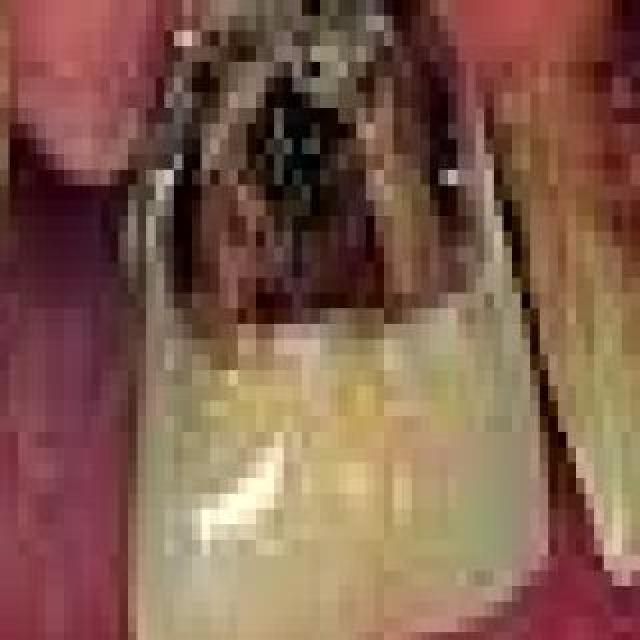cavities: (136, 0, 492, 400), (558, 0, 640, 386), (0, 0, 36, 324)
spacing: (0, 88, 216, 640)
